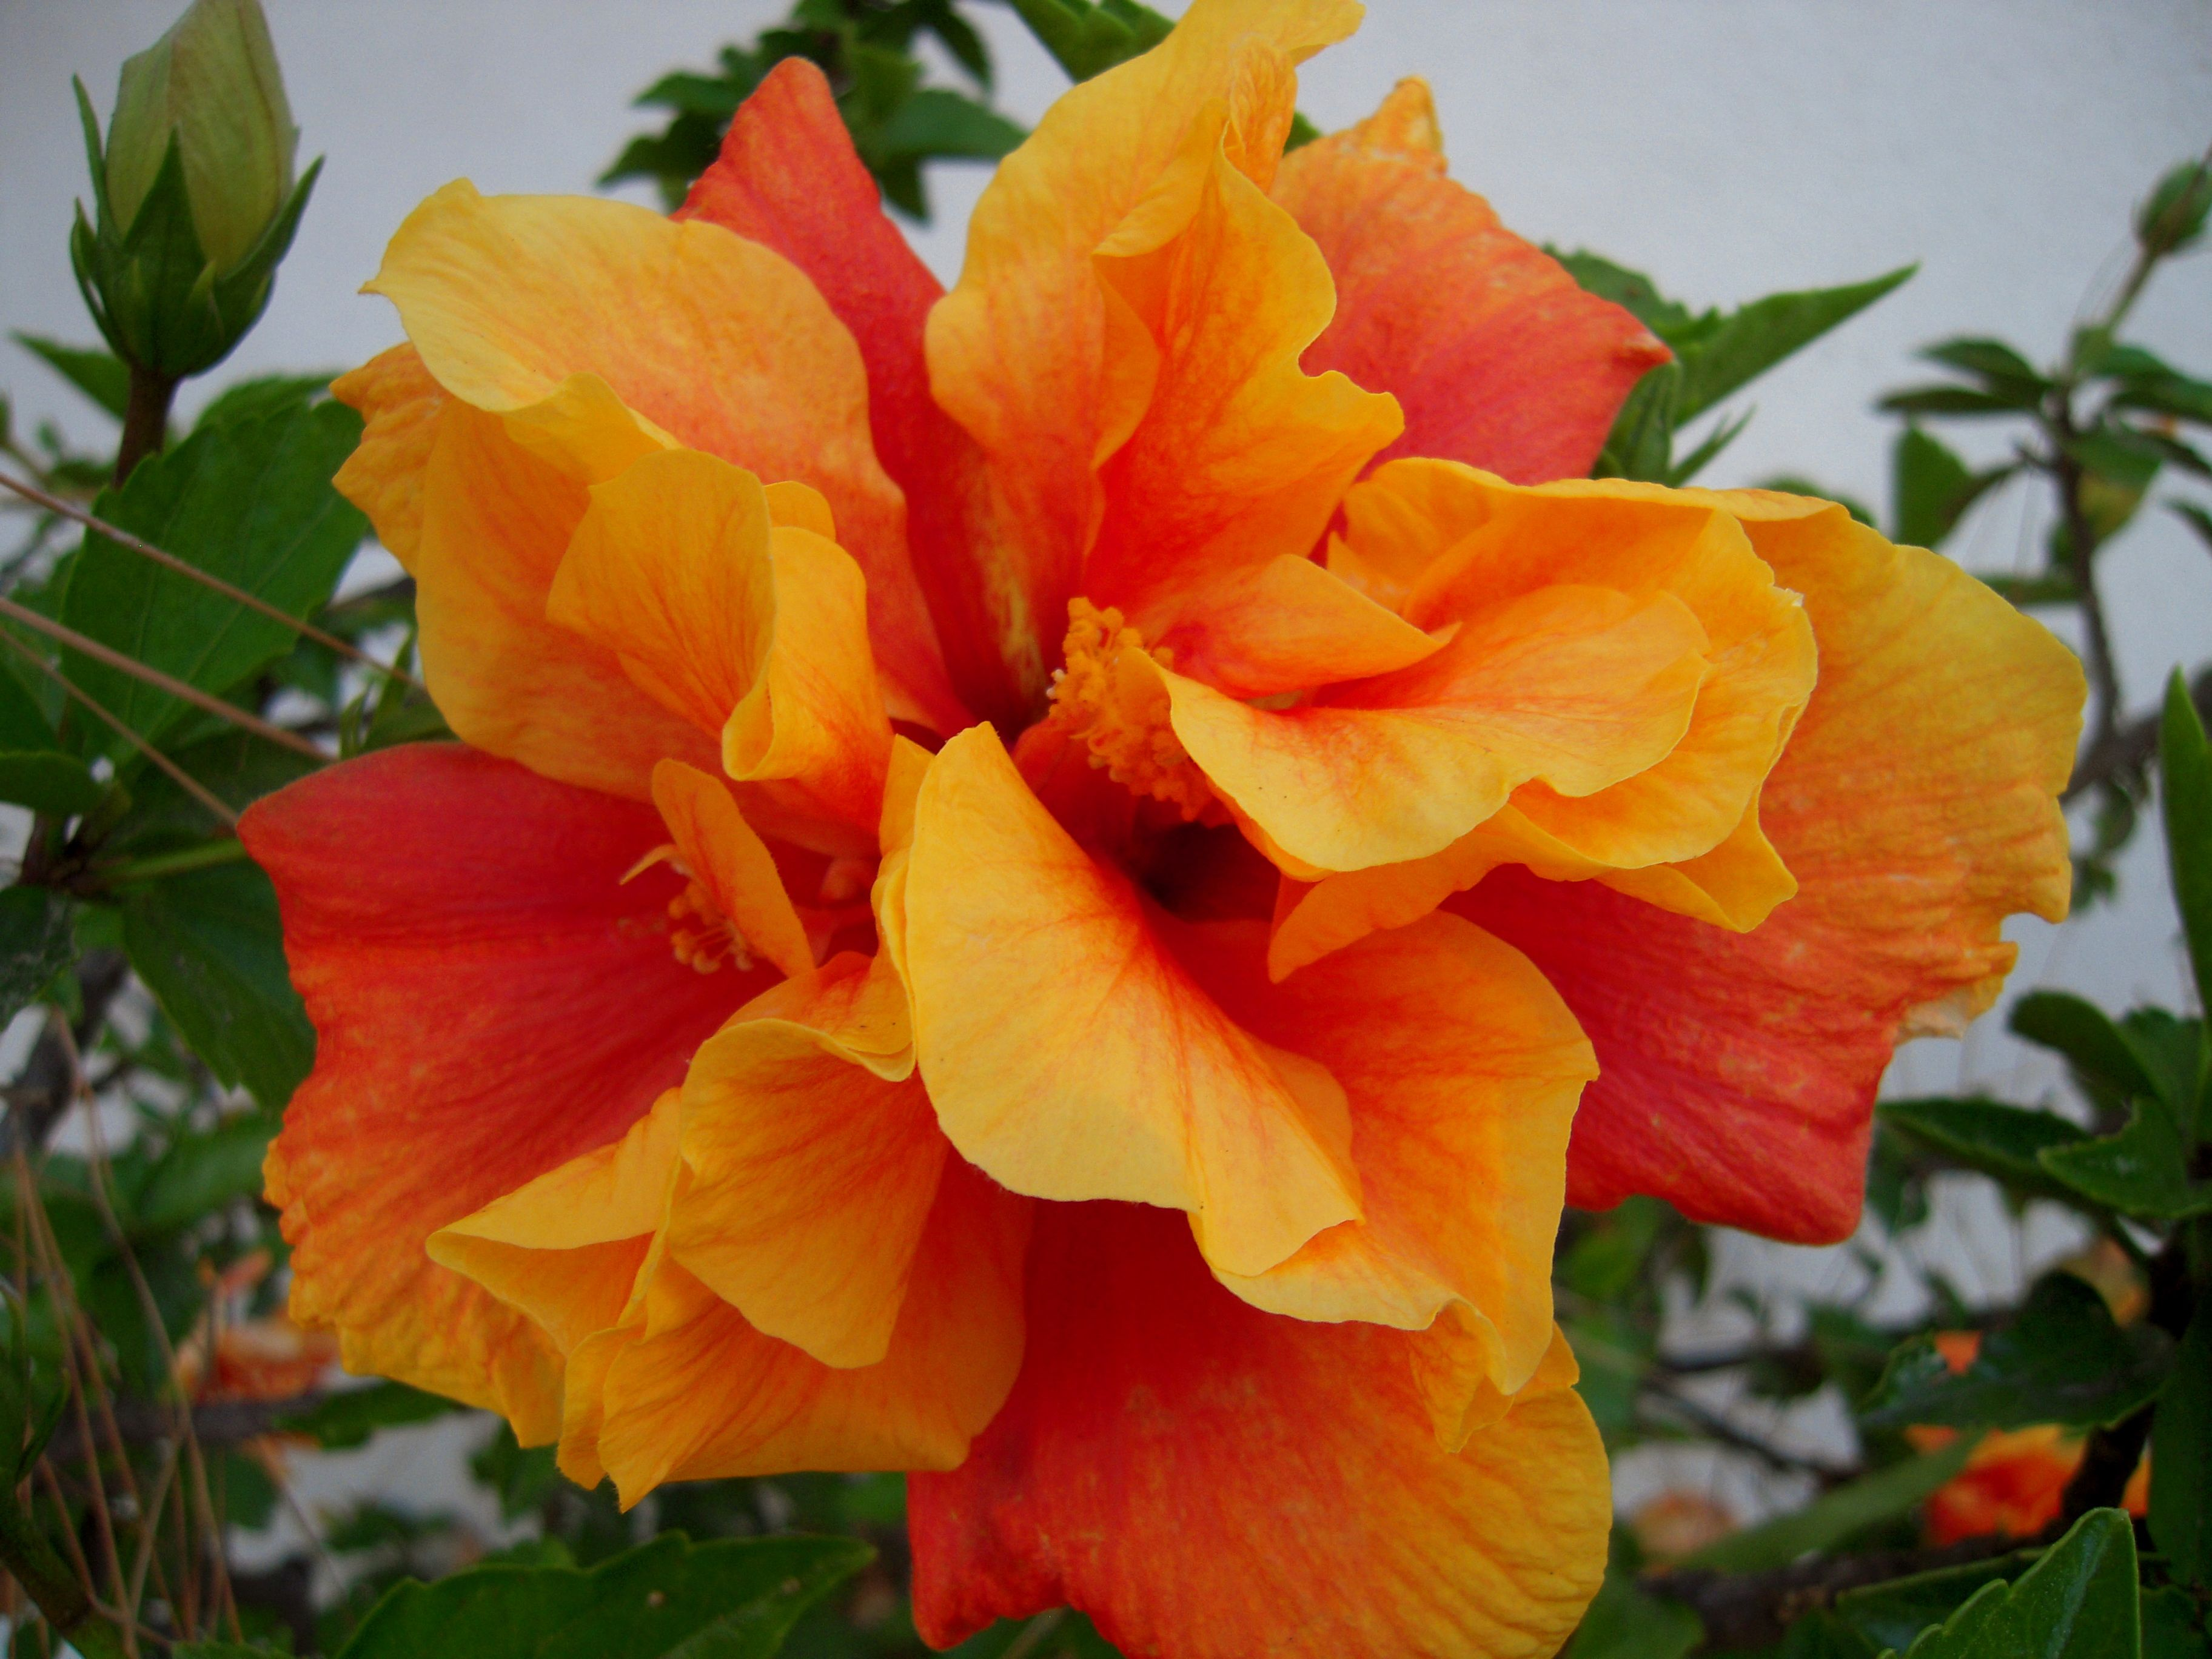Hibiscus: (399, 19, 2047, 1624), (37, 10, 477, 652)
